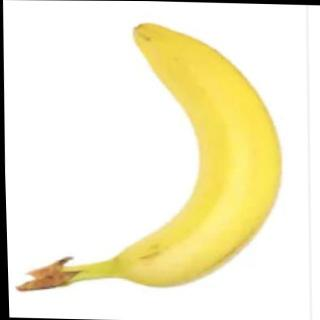banana: (106, 19, 288, 291)
